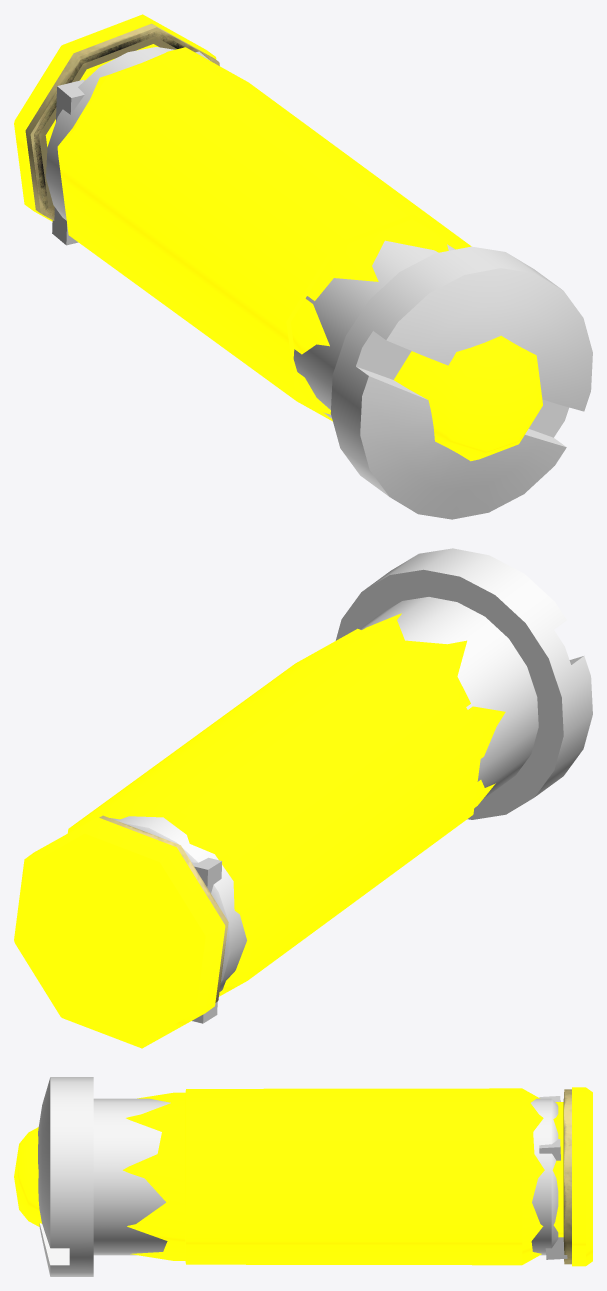
File: 45_lc_round_object (merge).fbx
The picture shows the model from 3 angles, top to bottom: view 1: azimuth 30°, elevation 25°; view 2: azimuth 150°, elevation 25°; view 3: azimuth 270°, elevation 25°; orthographic projection. The views are drawn at different scales.
Visible parts, largest first — view 1: glint, plug, 45_acp_loaded_low, 45_acp_case_low, MagDisabledDecal; view 2: glint, plug, 45_acp_loaded_low, MagDisabledDecal; view 3: glint, plug, 45_acp_loaded_low, MagDisabledDecal.
Part boxes in pixels (x1,y1,x2,y2): glint: (14,14,542,461); plug: (46,47,592,519); 45_acp_loaded_low: (25,23,219,220); 45_acp_case_low: (34,31,184,216); MagDisabledDecal: (52,51,209,245); glint: (14,613,505,1048); plug: (110,548,592,991); 45_acp_loaded_low: (99,815,228,1002); MagDisabledDecal: (191,857,221,1023); glint: (14,1087,592,1266); plug: (38,1077,558,1276); 45_acp_loaded_low: (563,1089,571,1264); MagDisabledDecal: (539,1096,567,1259).
Size of the model in its own units: 0.0142 by 0.0142 by 0.0415.
